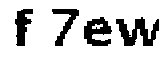7: (48, 5, 82, 51)
e: (83, 17, 112, 48)
f: (9, 5, 39, 48)
w: (115, 15, 160, 48)
